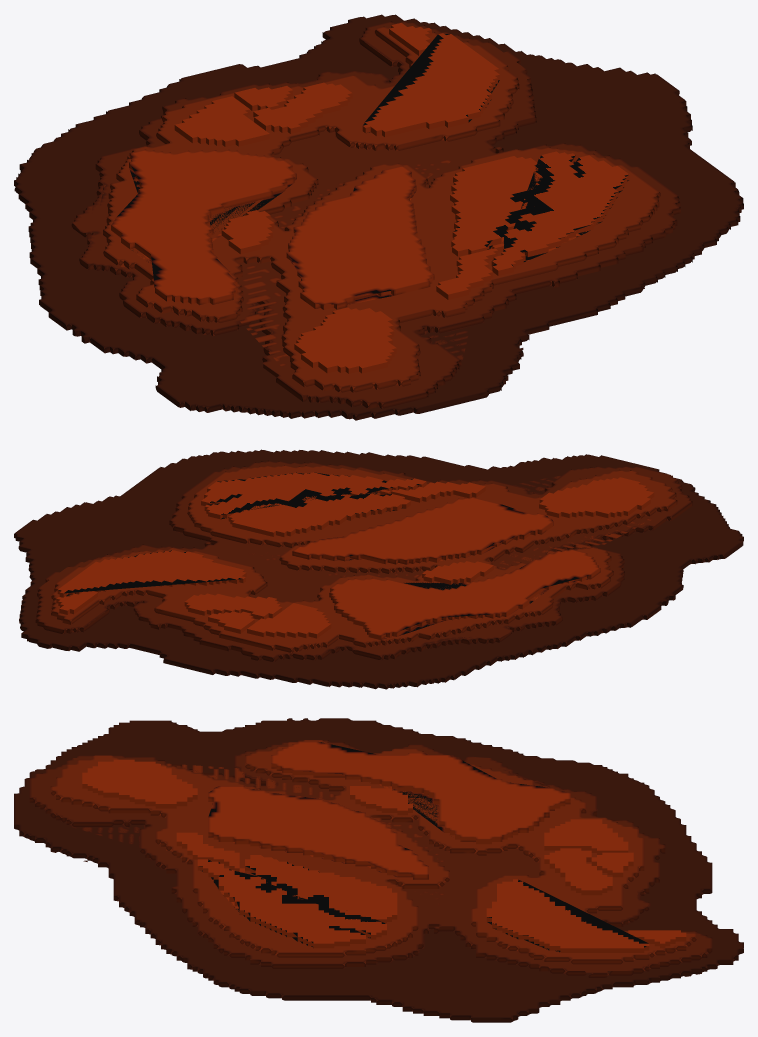
File: Sedimento.fbx
3 renders of one model, top to bottom at view 1: azimuth 30°, elevation 25°; view 2: azimuth 150°, elevation 25°; view 3: azimuth 270°, elevation 25°, orthographic. The views are drawn at different scales.
Parts seen in each view (by area): view 1: Sedimentos-14-Sub-3, Sedimentos-12-Sub-1, Sedimentos-13-Sub-2, Sedimentos-5-Sub-IlhaAmarAntes, Sedimentos-7-Sub-IlhaDoFarol, Sedimentos-9-Sub-FuroKidNey2, Sedimentos-3-Sub-IlhaMatinta1, Sedimentos-8-Sub-FuroKidNey1, Sedimentos-11-Sub-IlhaBatativo, Sedimentos-0-Sub-IlhaXimba1, Sedimentos-1-Sub-IlhaXimba2, Sedimentos-10-Sub-FuroKidNey3 (+3 smaller); view 2: Sedimentos-14-Sub-3, Sedimentos-12-Sub-1, Sedimentos-13-Sub-2, Sedimentos-5-Sub-IlhaAmarAntes, Sedimentos-7-Sub-IlhaDoFarol, Sedimentos-9-Sub-FuroKidNey2, Sedimentos-3-Sub-IlhaMatinta1, Sedimentos-8-Sub-FuroKidNey1, Sedimentos-11-Sub-IlhaBatativo, Sedimentos-0-Sub-IlhaXimba1, Sedimentos-1-Sub-IlhaXimba2, Sedimentos-10-Sub-FuroKidNey3 (+3 smaller); view 3: Sedimentos-14-Sub-3, Sedimentos-12-Sub-1, Sedimentos-13-Sub-2, Sedimentos-5-Sub-IlhaAmarAntes, Sedimentos-7-Sub-IlhaDoFarol, Sedimentos-9-Sub-FuroKidNey2, Sedimentos-3-Sub-IlhaMatinta1, Sedimentos-8-Sub-FuroKidNey1, Sedimentos-11-Sub-IlhaBatativo, Sedimentos-0-Sub-IlhaXimba1, Sedimentos-1-Sub-IlhaXimba2, Sedimentos-6-Sub-CavernaIara (+3 smaller).
Part boxes in pixels (x1=…): Sedimentos-14-Sub-3: x1=14, y1=14, x2=743, y2=420; Sedimentos-12-Sub-1: x1=103, y1=26, x2=660, y2=392; Sedimentos-13-Sub-2: x1=71, y1=21, x2=680, y2=409; Sedimentos-5-Sub-IlhaAmarAntes: x1=111, y1=149, x2=296, y2=305; Sedimentos-7-Sub-IlhaDoFarol: x1=286, y1=165, x2=434, y2=309; Sedimentos-9-Sub-FuroKidNey2: x1=491, y1=151, x2=629, y2=275; Sedimentos-3-Sub-IlhaMatinta1: x1=362, y1=33, x2=499, y2=137; Sedimentos-8-Sub-FuroKidNey1: x1=450, y1=156, x2=543, y2=256; Sedimentos-11-Sub-IlhaBatativo: x1=294, y1=307, x2=396, y2=373; Sedimentos-0-Sub-IlhaXimba1: x1=174, y1=96, x2=269, y2=146; Sedimentos-1-Sub-IlhaXimba2: x1=253, y1=82, x2=352, y2=133; Sedimentos-10-Sub-FuroKidNey3: x1=436, y1=243, x2=503, y2=299; Sedimentos-14-Sub-3: x1=14, y1=449, x2=743, y2=689; Sedimentos-12-Sub-1: x1=51, y1=465, x2=677, y2=652; Sedimentos-13-Sub-2: x1=35, y1=460, x2=692, y2=661; Sedimentos-5-Sub-IlhaAmarAntes: x1=329, y1=549, x2=600, y2=639; Sedimentos-7-Sub-IlhaDoFarol: x1=292, y1=497, x2=553, y2=564; Sedimentos-9-Sub-FuroKidNey2: x1=201, y1=472, x2=426, y2=519; Sedimentos-3-Sub-IlhaMatinta1: x1=57, y1=550, x2=246, y2=597; Sedimentos-8-Sub-FuroKidNey1: x1=228, y1=493, x2=410, y2=536; Sedimentos-11-Sub-IlhaBatativo: x1=539, y1=477, x2=654, y2=518; Sedimentos-0-Sub-IlhaXimba1: x1=247, y1=603, x2=331, y2=638; Sedimentos-1-Sub-IlhaXimba2: x1=184, y1=593, x2=282, y2=619; Sedimentos-10-Sub-FuroKidNey3: x1=380, y1=481, x2=485, y2=502; Sedimentos-14-Sub-3: x1=14, y1=718, x2=743, y2=1022; Sedimentos-12-Sub-1: x1=50, y1=740, x2=696, y2=964; Sedimentos-13-Sub-2: x1=29, y1=740, x2=712, y2=977; Sedimentos-5-Sub-IlhaAmarAntes: x1=271, y1=741, x2=570, y2=844; Sedimentos-7-Sub-IlhaDoFarol: x1=208, y1=786, x2=428, y2=879; Sedimentos-9-Sub-FuroKidNey2: x1=197, y1=859, x2=386, y2=948; Sedimentos-3-Sub-IlhaMatinta1: x1=486, y1=879, x2=649, y2=952; Sedimentos-8-Sub-FuroKidNey1: x1=245, y1=855, x2=397, y2=923; Sedimentos-11-Sub-IlhaBatativo: x1=82, y1=759, x2=197, y2=808; Sedimentos-0-Sub-IlhaXimba1: x1=544, y1=819, x2=628, y2=854; Sedimentos-1-Sub-IlhaXimba2: x1=544, y1=848, x2=612, y2=895; Sedimentos-6-Sub-CavernaIara: x1=350, y1=786, x2=412, y2=815.
Size of the model in its own units: 1350 by 40 by 1390.
